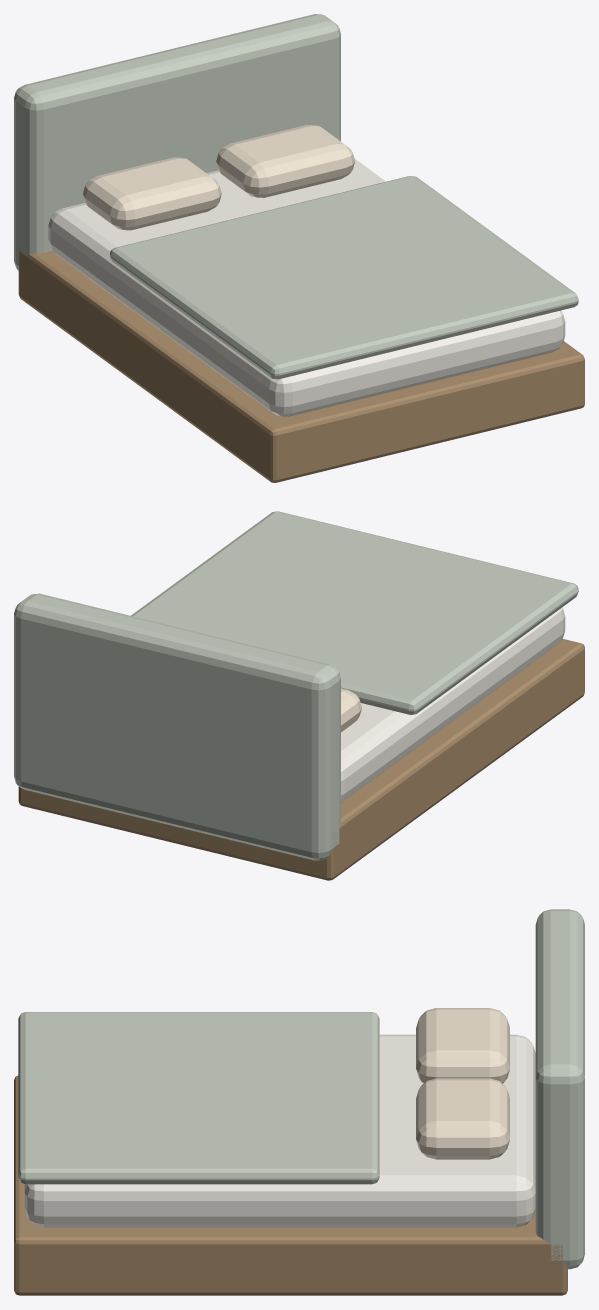
The model's file is bed.glb.
3 renders of one model, top to bottom at view 1: azimuth 30°, elevation 25°; view 2: azimuth 150°, elevation 25°; view 3: azimuth 270°, elevation 25°, orthographic. The views are drawn at different scales.
Parts seen in each view (by area): view 1: bed; view 2: bed; view 3: bed.
Boxes of the visible parts, x1=… form: bed: x1=14, y1=14, x2=584, y2=482; bed: x1=14, y1=511, x2=584, y2=880; bed: x1=14, y1=909, x2=584, y2=1295.
Bounding box in the file's own units: 1.84 × 1.17 × 2.67.
